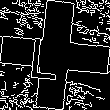L_N: (37, 28, 73, 82)
